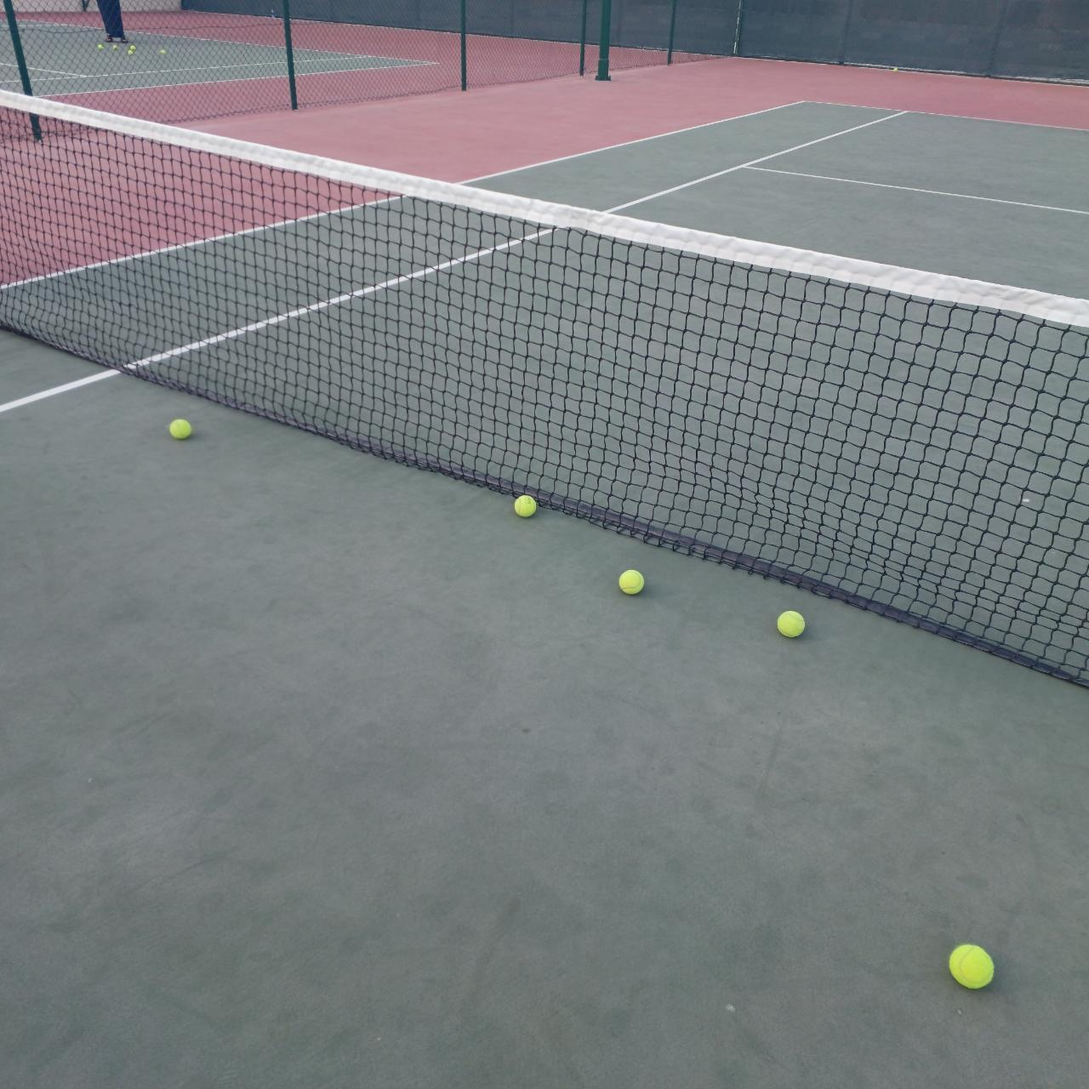tennis-ball: (948, 941, 996, 989), (777, 607, 807, 638), (619, 567, 647, 596), (168, 416, 194, 440), (514, 493, 539, 517), (159, 49, 166, 55), (130, 45, 136, 51), (127, 50, 133, 56), (97, 44, 104, 49), (893, 67, 899, 72), (113, 45, 118, 51)
